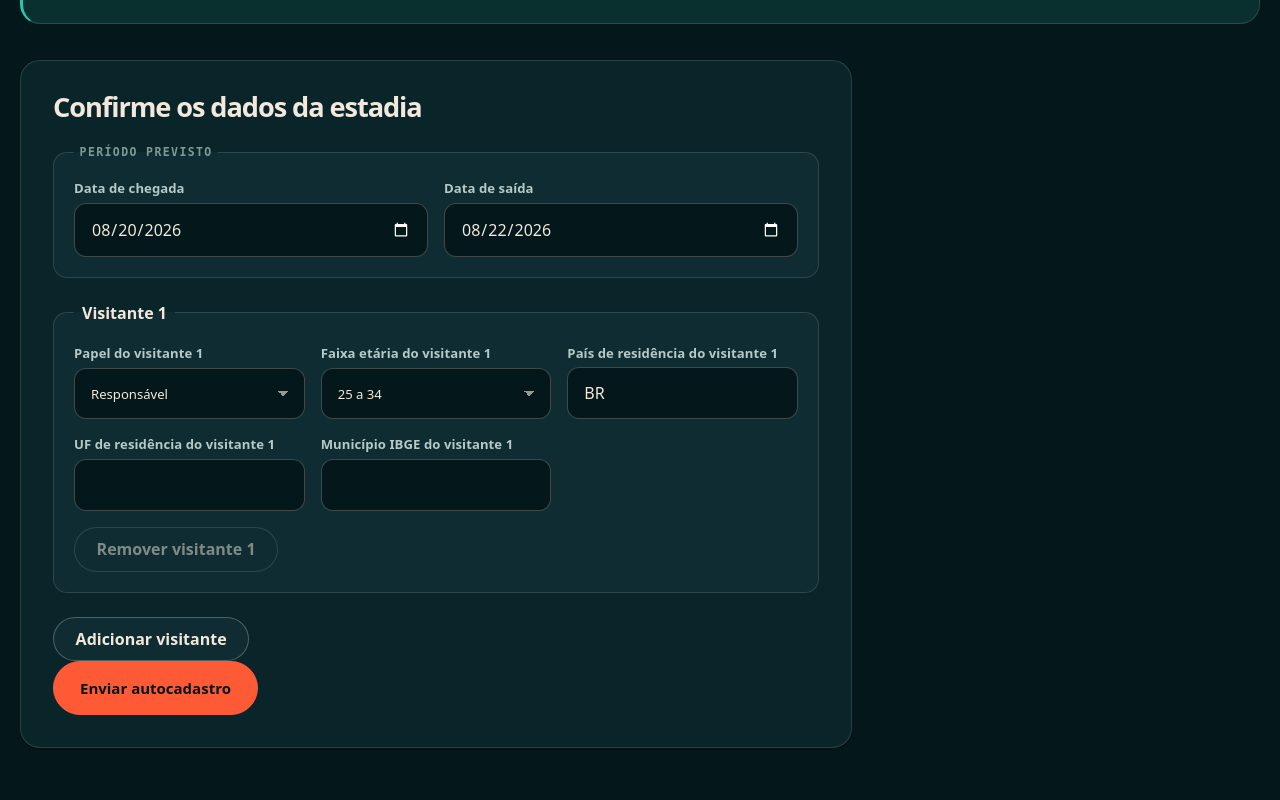
autocadastro pelo cartaz da acomodação › guarda o rascunho cifrado sem token quando a rede falha
The width and height of the screenshot is (1280, 800).
(page scrolled)
Type "BA" into the field labelled "UF de residência do visitante 1" at (189, 485), box [74, 459, 305, 511]
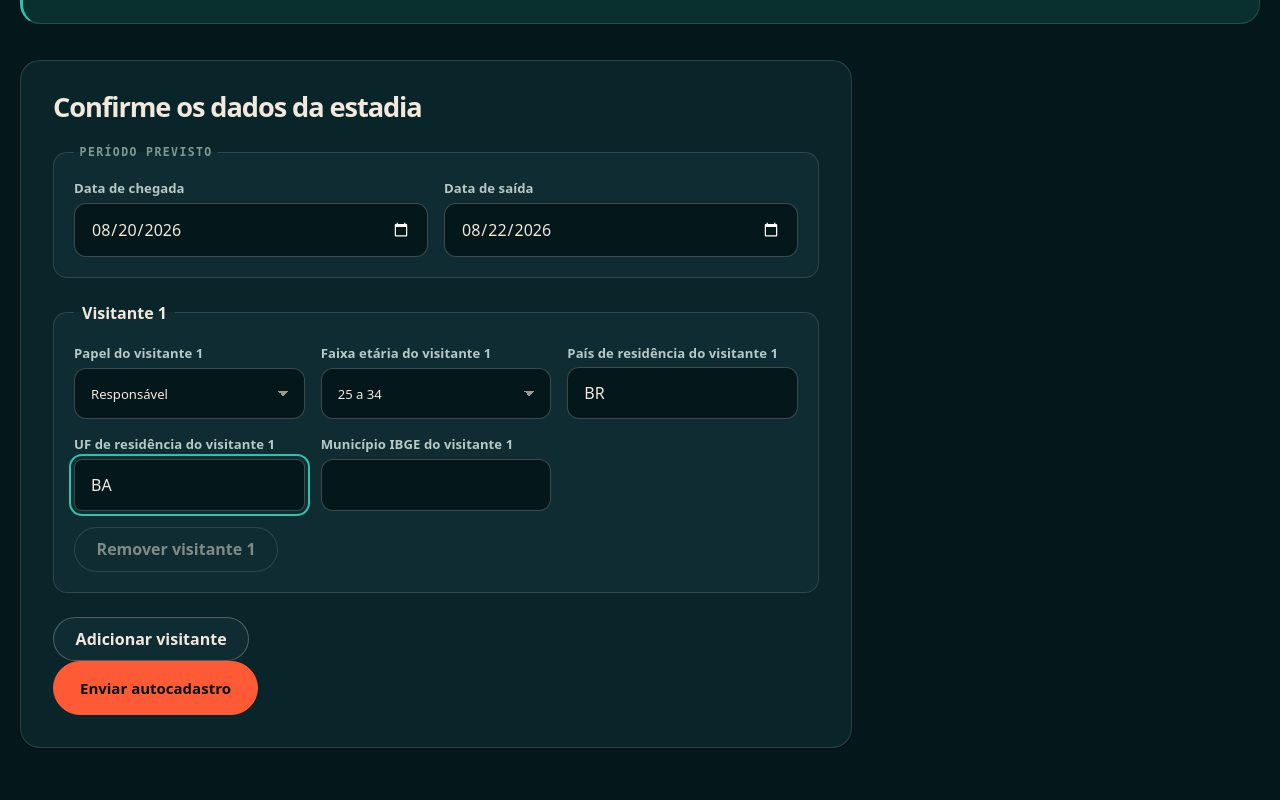
Type "2925509" into the field labelled "Município IBGE do visitante 1" at (436, 485), box [321, 459, 551, 511]
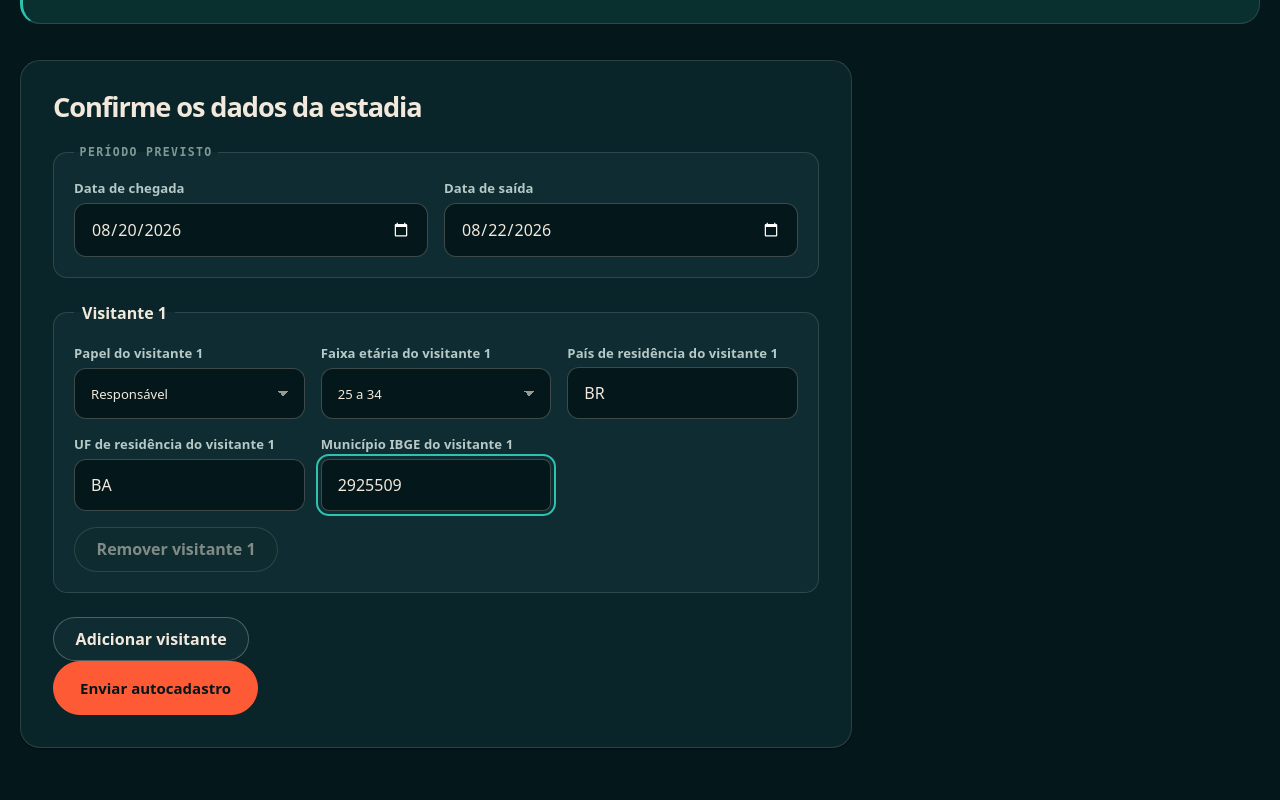
Click the button "Enviar autocadastro" at (155, 688), box [53, 661, 258, 715]
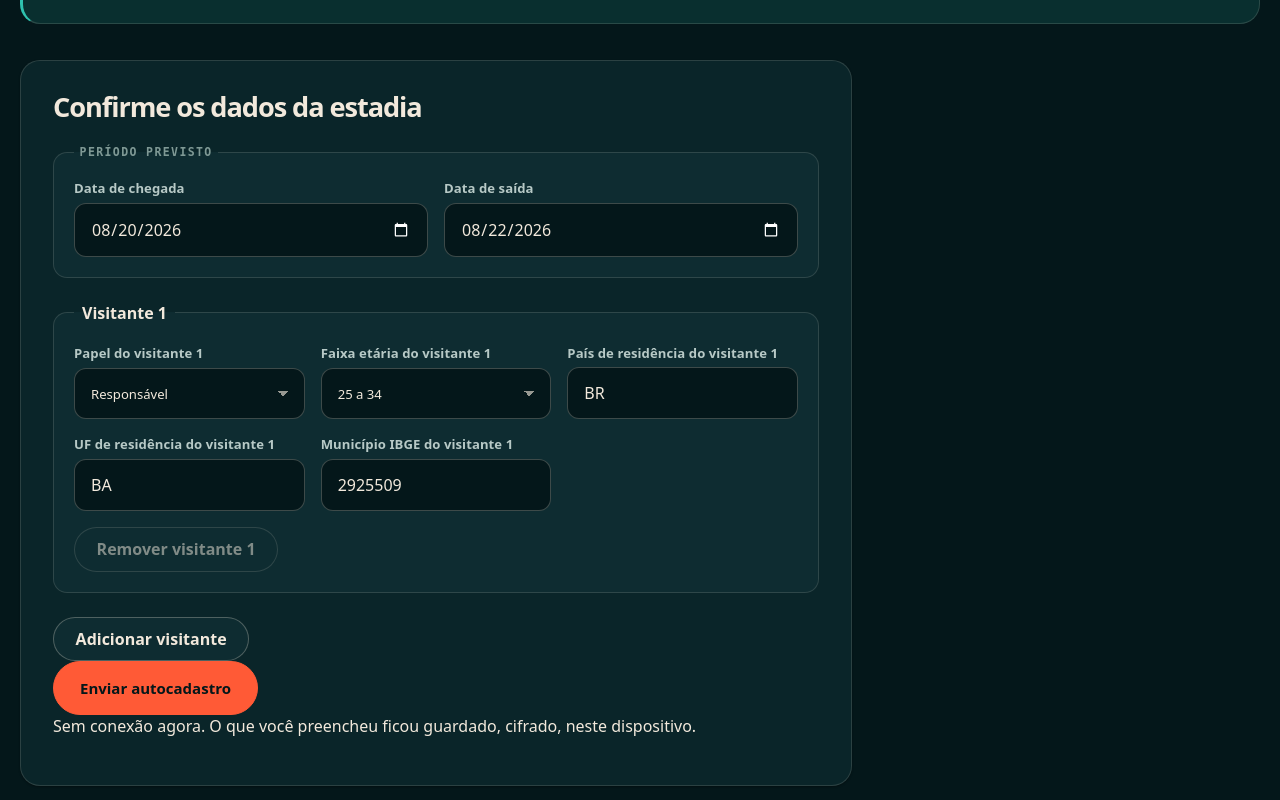
Expected: the text "cifrado, neste dispositivo" is shown, [53, 715, 696, 737]
